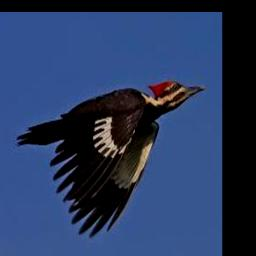Woodpecker: (16, 80, 205, 237)
